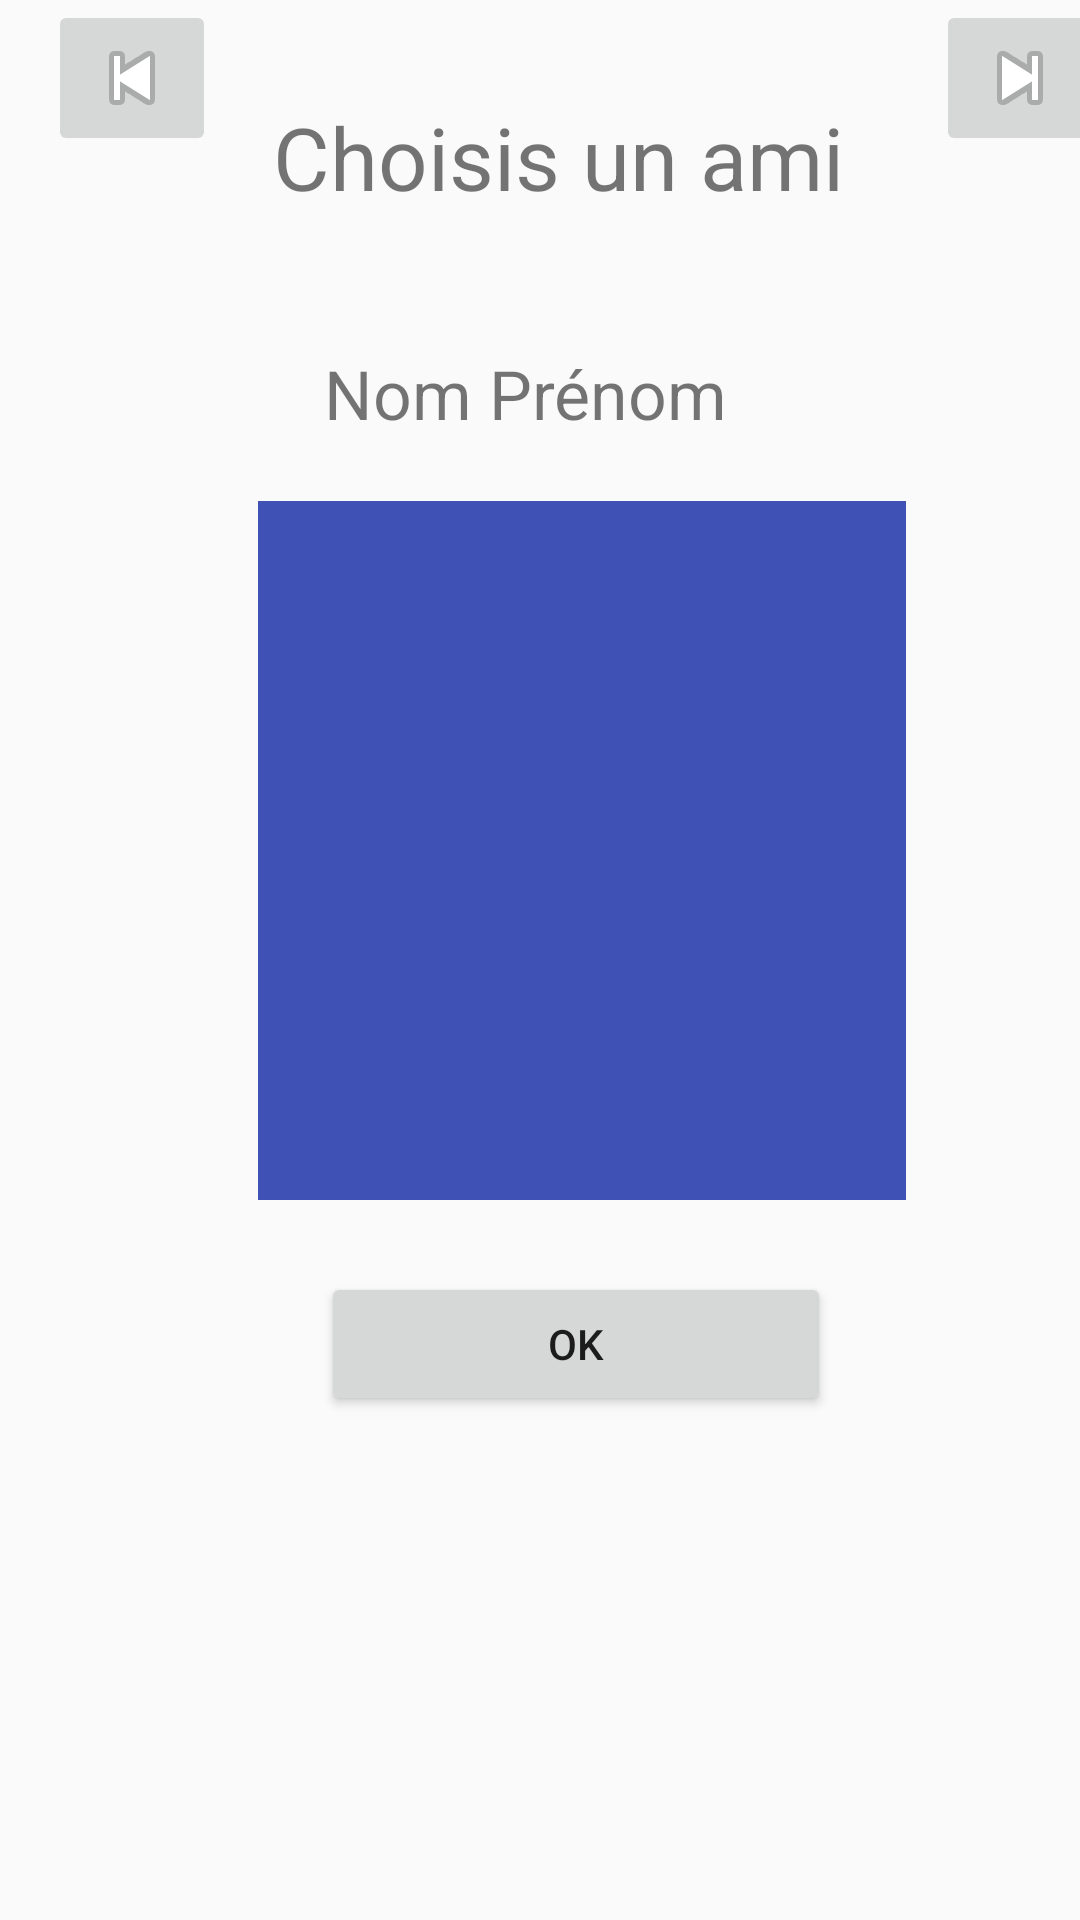

Icons on this 1080x1920 Android screen, each with its box as [x1, y1, x2, y2]:
Button Previous: [60, 18, 204, 138]
